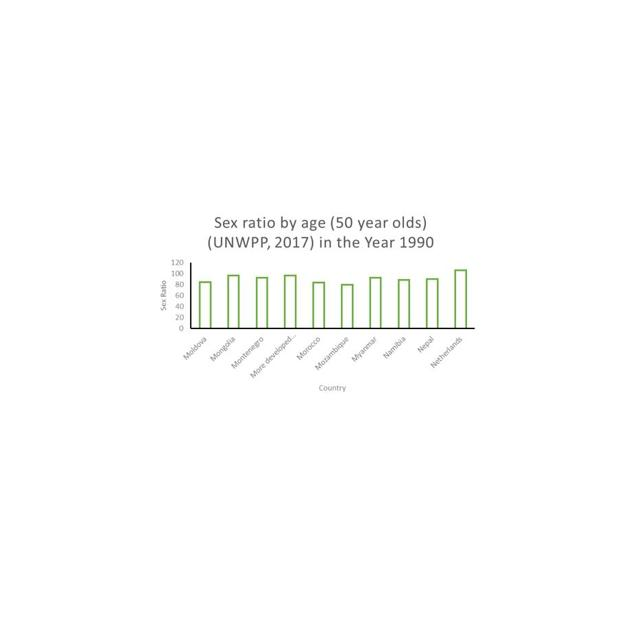Graph: (149, 207, 480, 397)
